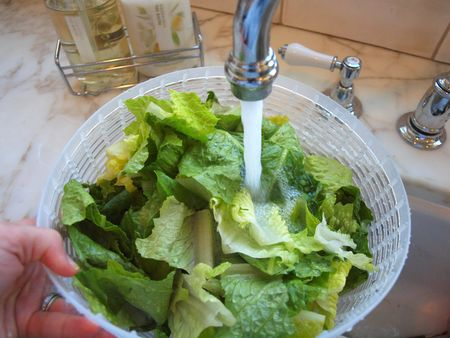chopped lettuce: (90, 100, 354, 337)
